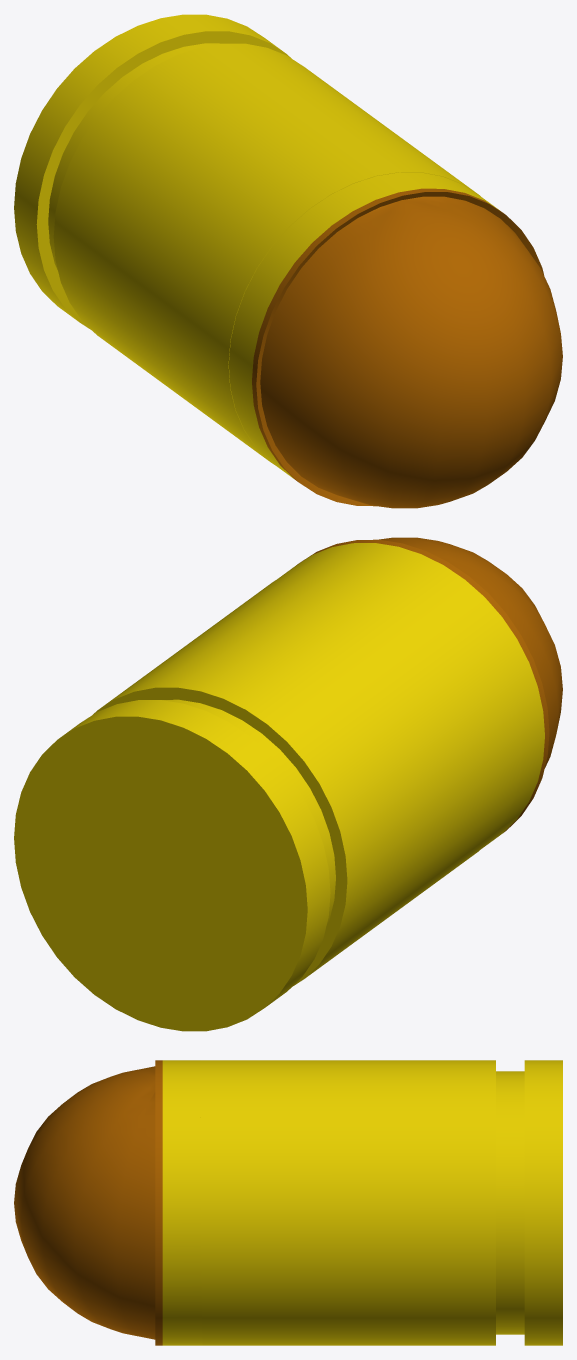
The model's file is Bullet.fbx.
3 renders of one model, top to bottom at view 1: azimuth 30°, elevation 25°; view 2: azimuth 150°, elevation 25°; view 3: azimuth 270°, elevation 25°, orthographic. The views are drawn at different scales.
Visible parts, largest first — view 1: pSphere2; view 2: pSphere2; view 3: pSphere2.
Boxes of the visible parts, box(x1,y1,x2,y2) form: pSphere2: box(14, 14, 562, 508); pSphere2: box(14, 537, 562, 1031); pSphere2: box(14, 1060, 562, 1345).
Size of the model in its own units: 7.98 by 7.98 by 15.34.
